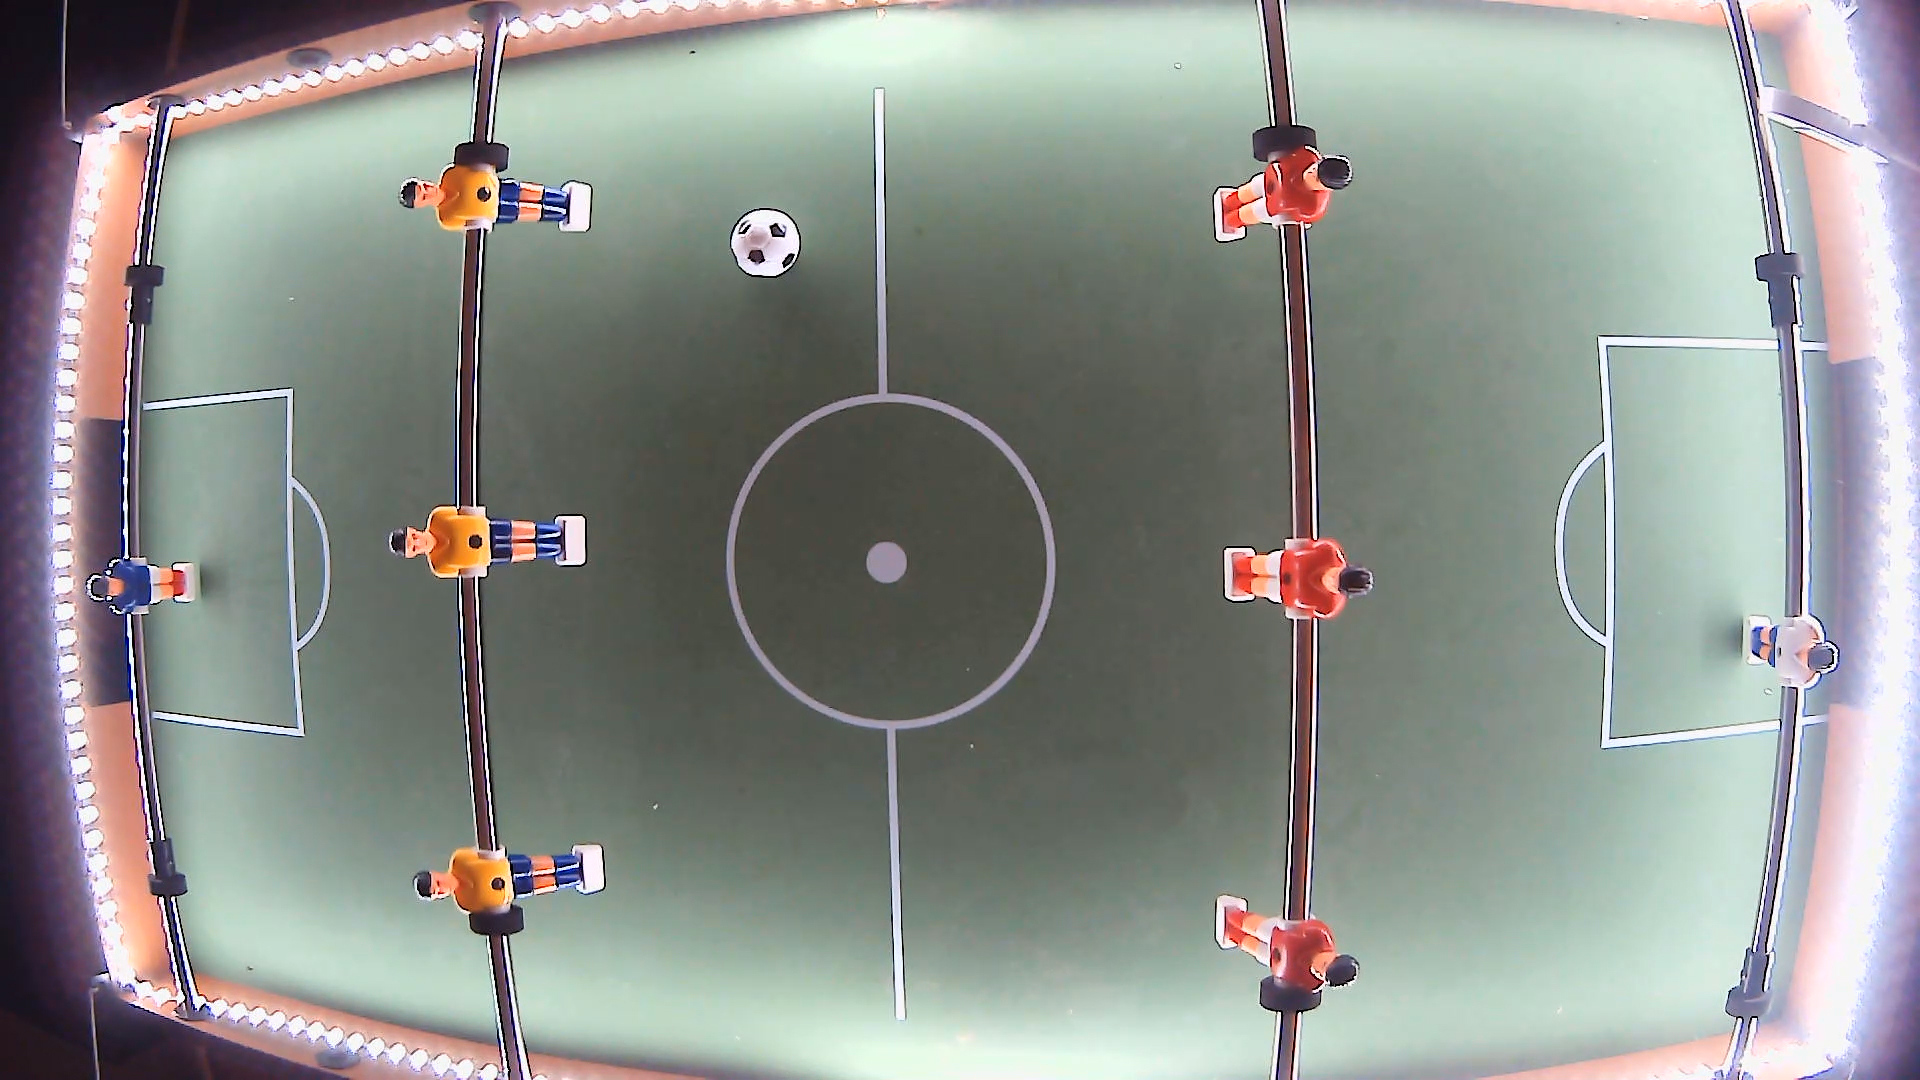Foosball: (729, 208, 800, 277)
